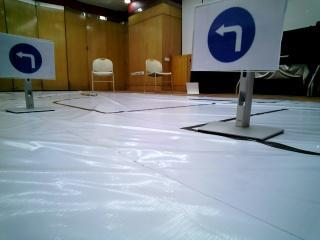left: (196, 7, 278, 68), (3, 36, 56, 82)
